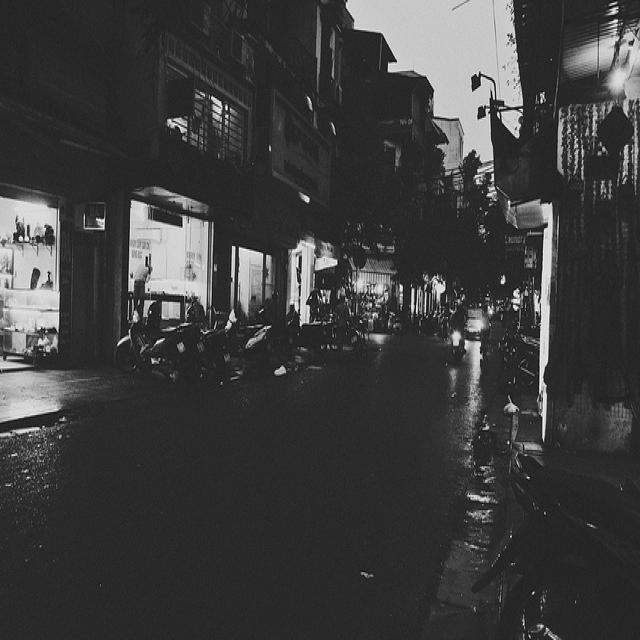Motorbike: (109, 269, 372, 403), (510, 435, 640, 640)
